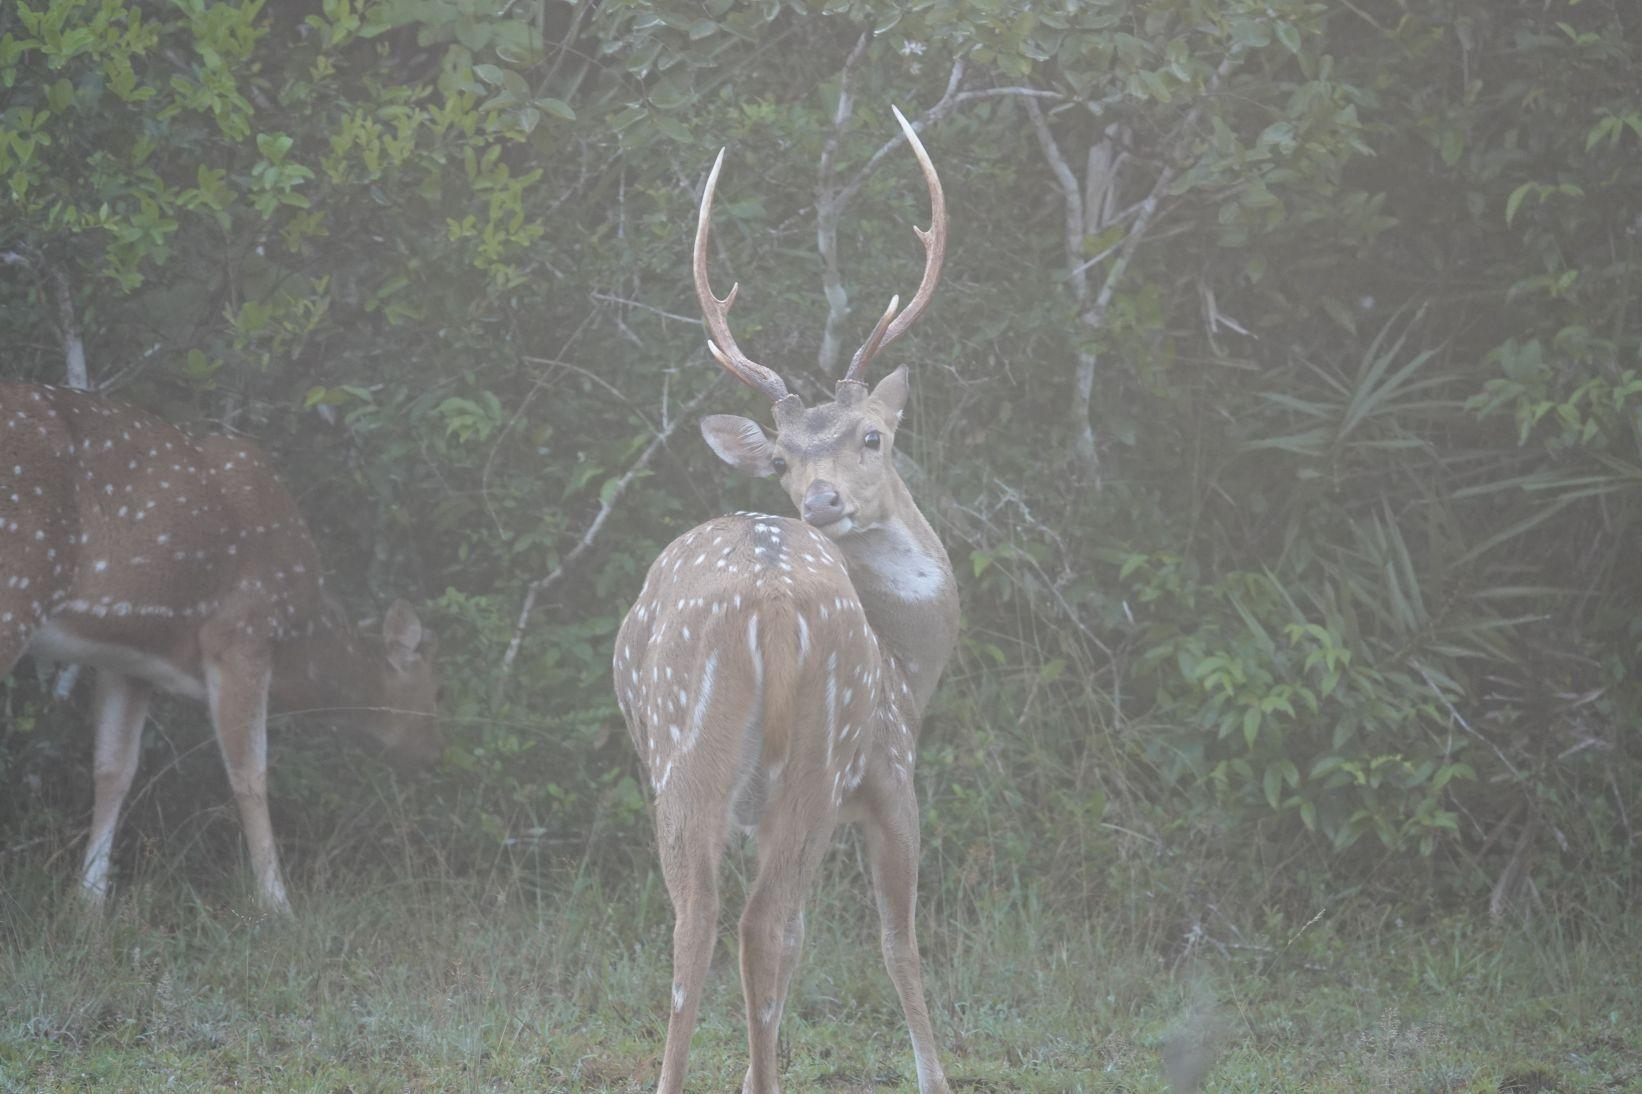Deer: (614, 112, 960, 1093)
